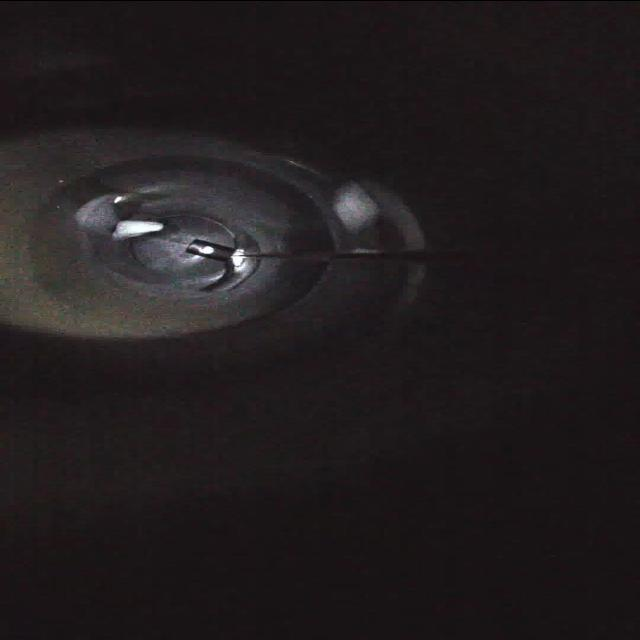impurity: (104, 212, 170, 244)
